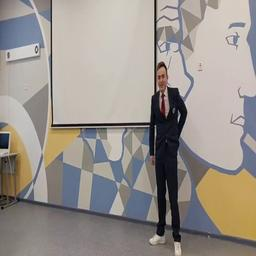person: (150, 63, 187, 256)
